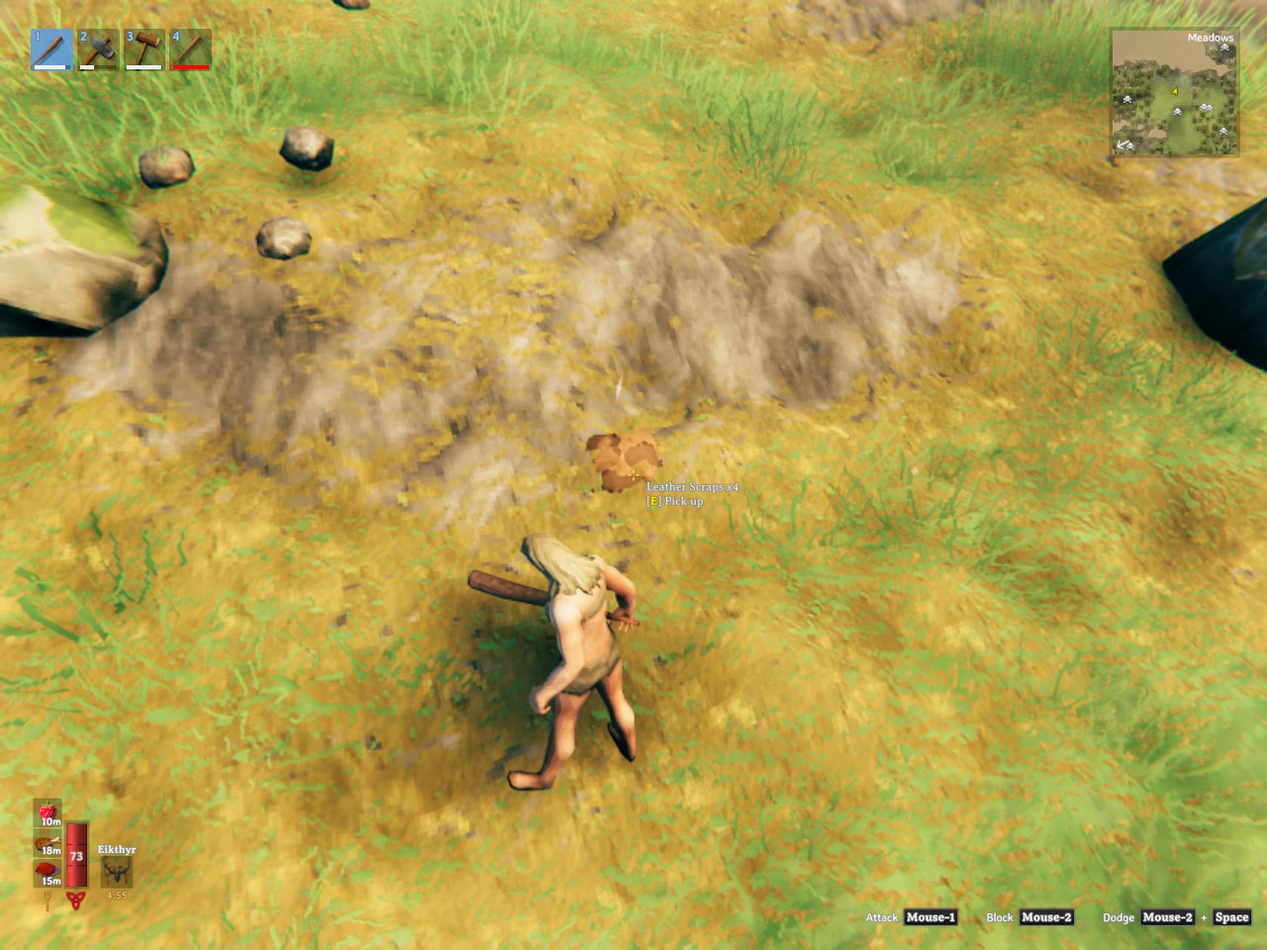Club: (467, 570, 549, 605)
Food Indicator: (36, 797, 63, 891)
Health Bar: (63, 818, 90, 891)
Hotbar: (25, 21, 398, 78)
Leather Scraps: (587, 432, 662, 492)
Stone: (279, 127, 335, 171), (140, 145, 194, 188), (257, 217, 311, 259)
